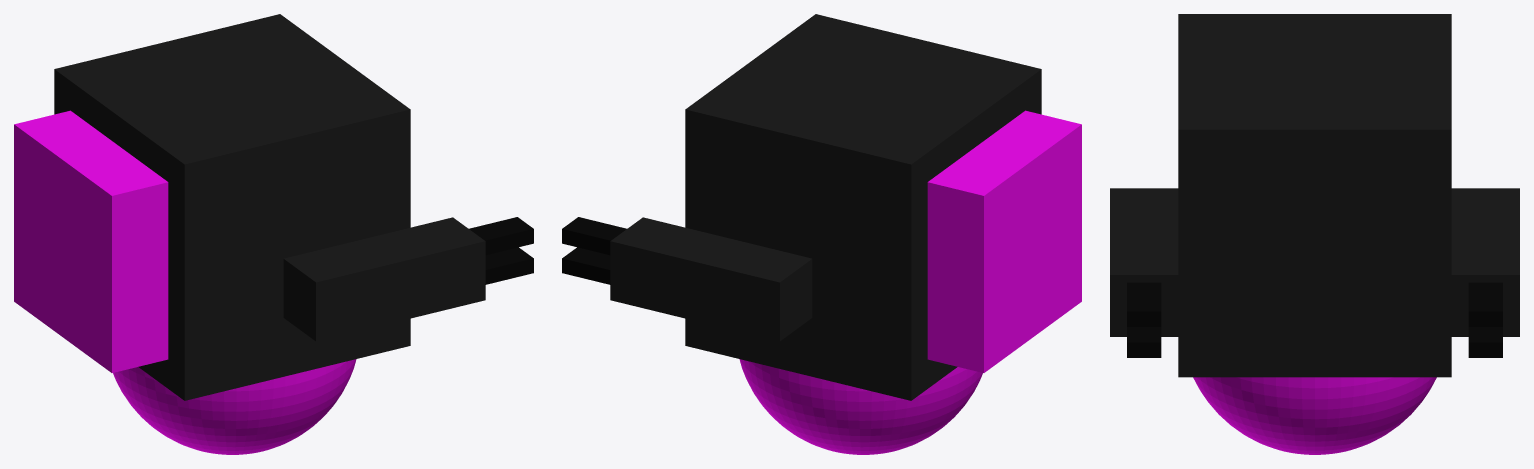
The model's file is vanguardMUV.obj.
The picture shows the model from 3 angles, left to right: view 1: azimuth 30°, elevation 25°; view 2: azimuth 150°, elevation 25°; view 3: azimuth 270°, elevation 25°; orthographic projection. The views are drawn at different scales.
Visible parts, largest first — view 1: Cube.008, Cube.001, Cube.003, Sphere, Cube.007, Cube.006; view 2: Cube.008, Cube.001, Cube.004, Sphere, Cube.002, Cube.005; view 3: Cube.008, Sphere, Cube.003, Cube.004, Cube.002, Cube.007, Cube.005, Cube.006.
Part boxes in pixels (left/top/right/bottom): Cube.008: left=54, top=14, right=410, bottom=400; Cube.001: left=14, top=110, right=168, bottom=372; Cube.003: left=283, top=217, right=485, bottom=341; Sphere: left=113, top=359, right=356, bottom=454; Cube.007: left=469, top=217, right=533, bottom=255; Cube.006: left=485, top=247, right=533, bottom=284; Cube.008: left=685, top=14, right=1041, bottom=400; Cube.001: left=927, top=110, right=1081, bottom=372; Cube.004: left=610, top=217, right=812, bottom=341; Sphere: left=739, top=359, right=982, bottom=454; Cube.002: left=562, top=217, right=626, bottom=255; Cube.005: left=562, top=247, right=610, bottom=284; Cube.008: left=1178, top=14, right=1451, bottom=377; Sphere: left=1193, top=377, right=1436, bottom=454; Cube.003: left=1110, top=188, right=1178, bottom=336; Cube.004: left=1451, top=188, right=1519, bottom=336; Cube.002: left=1468, top=282, right=1502, bottom=326; Cube.007: left=1127, top=282, right=1161, bottom=326; Cube.005: left=1468, top=327, right=1502, bottom=357; Cube.006: left=1127, top=327, right=1161, bottom=357.
Size of the model in its own units: 27 by 23.98 by 24.
